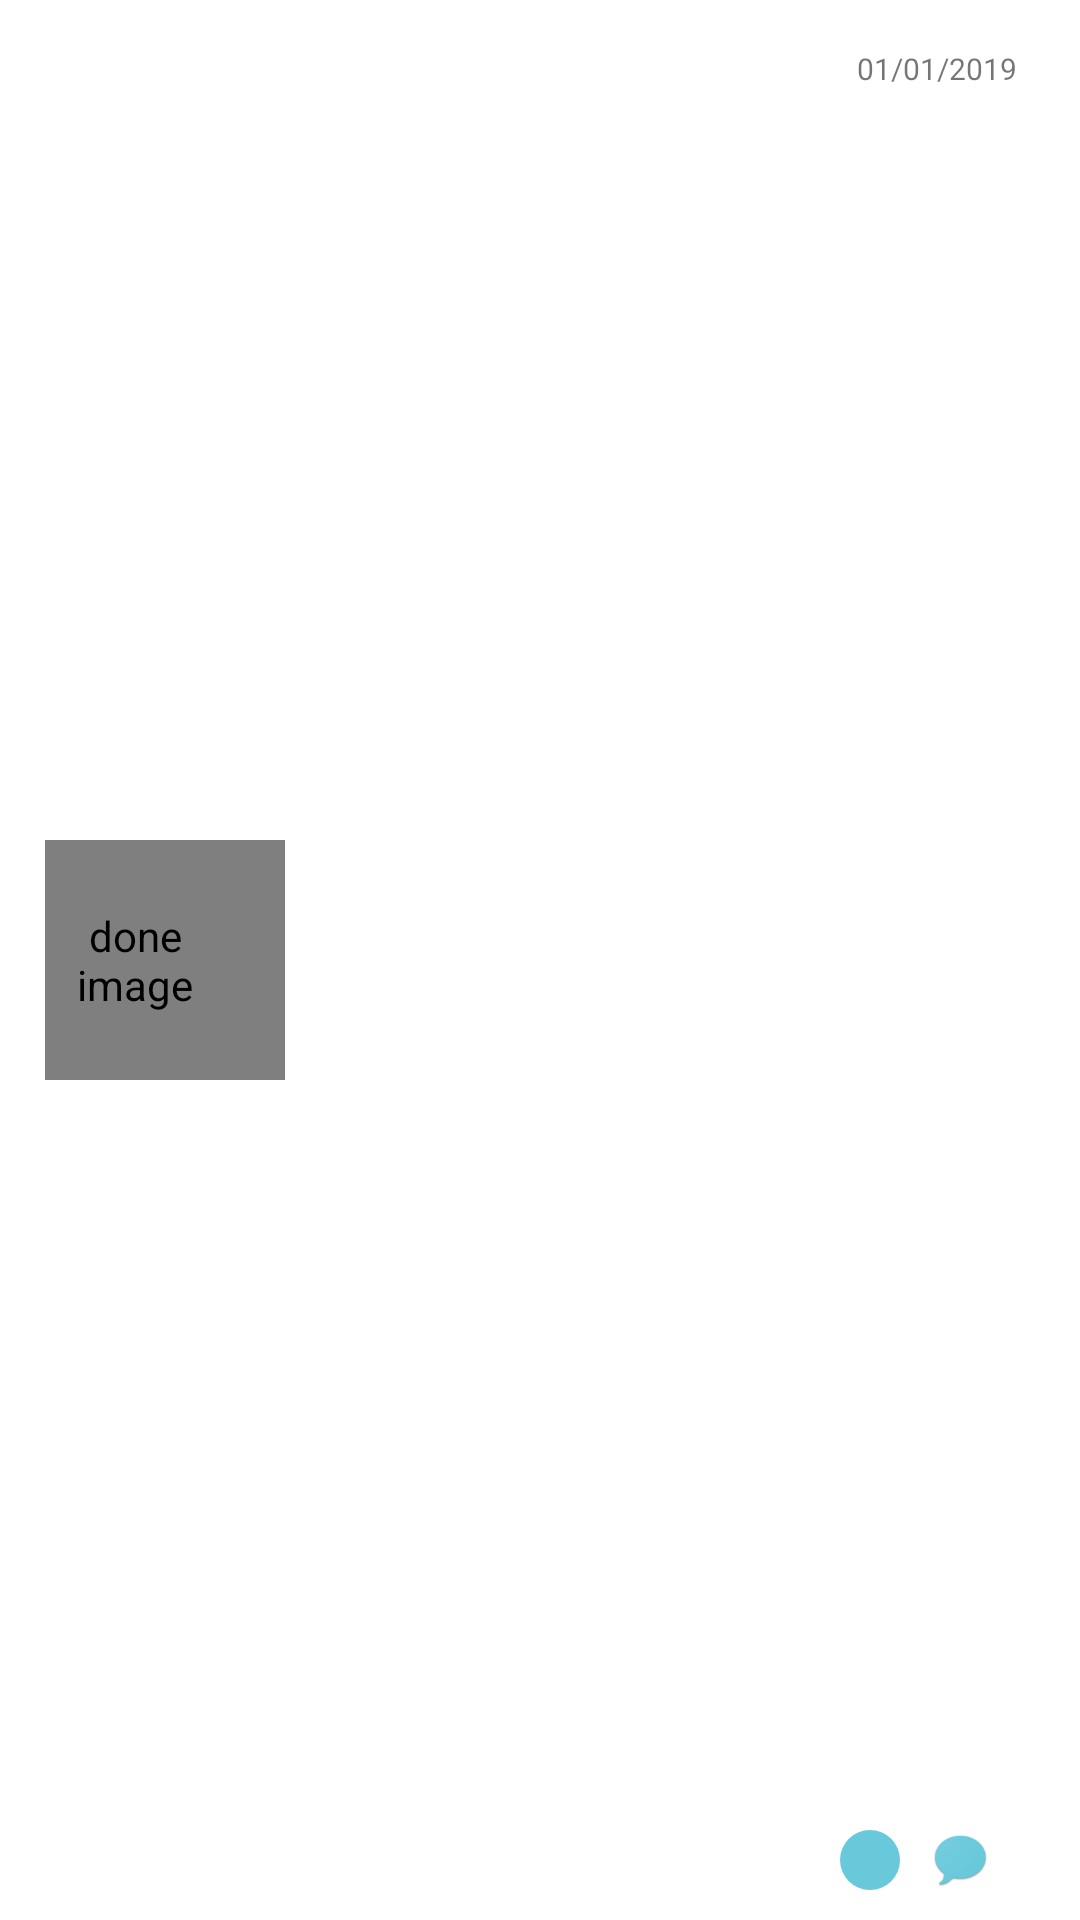

Named icons in this screenshot (1080px×1920px) and their centers, point (x, y):
chat image: point (960, 1860)
